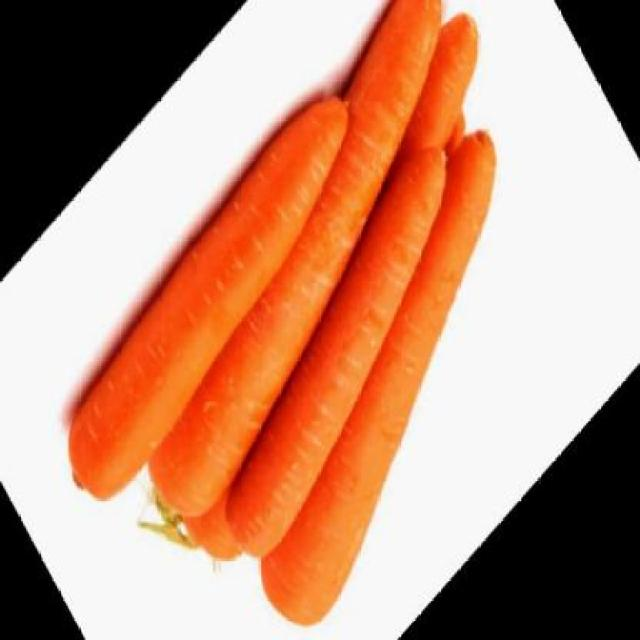carrot: (112, 0, 563, 585), (82, 0, 526, 540), (187, 114, 588, 638), (35, 69, 393, 522), (172, 130, 510, 572)
